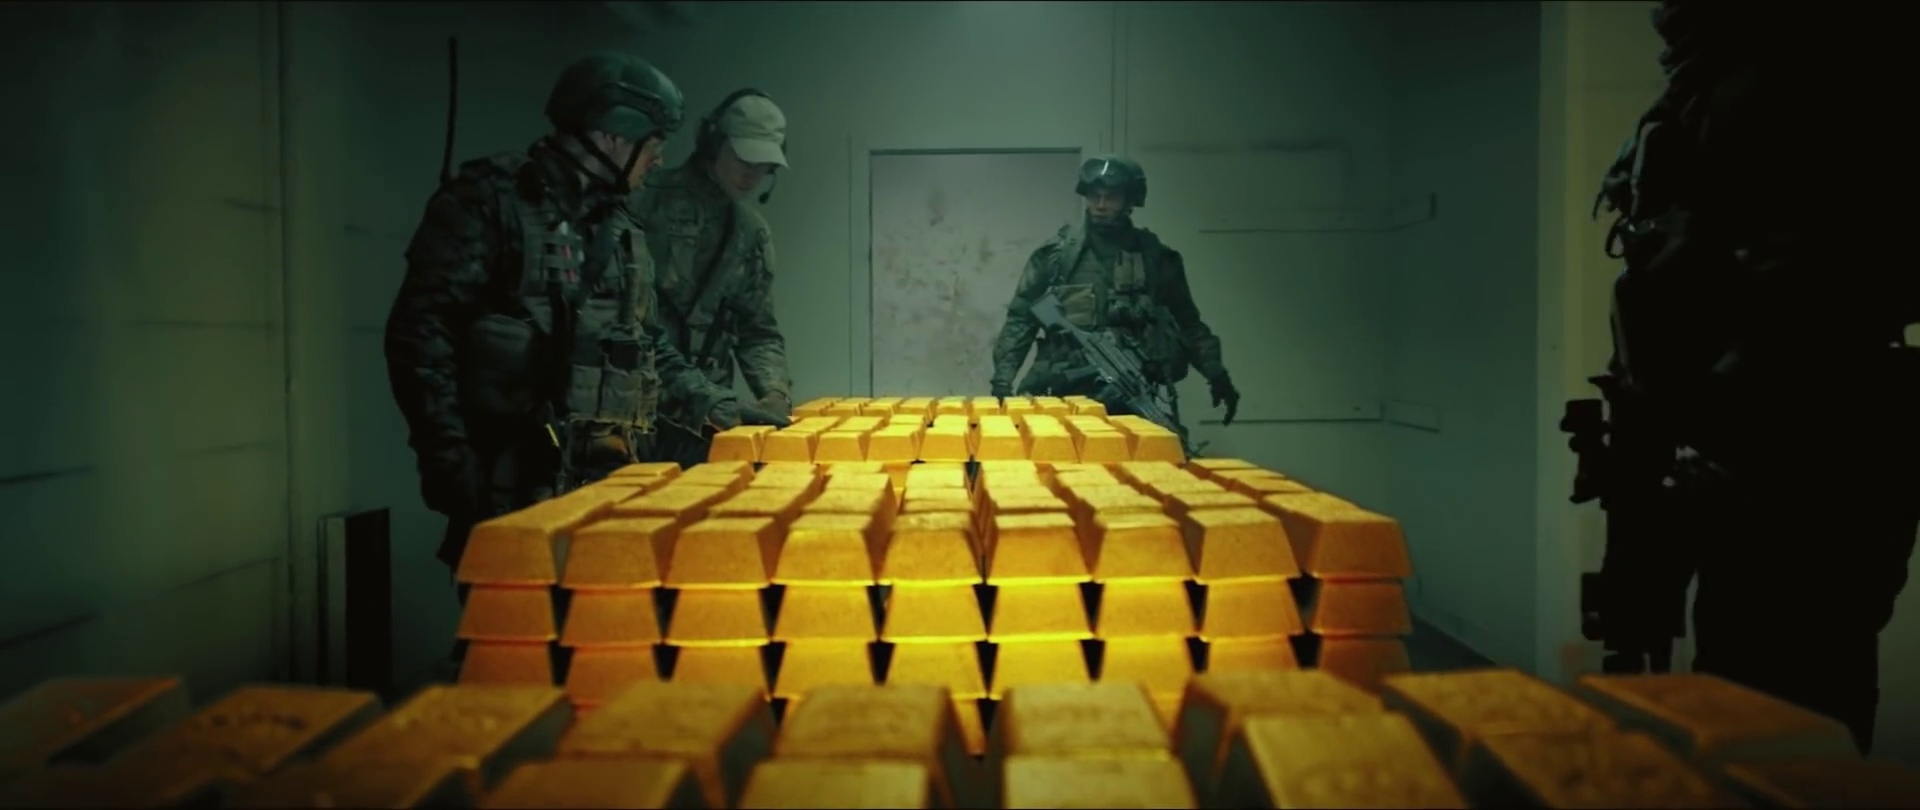gun: (1565, 131, 1707, 677), (1021, 286, 1177, 439)
p_w_gun: (1553, 0, 1920, 750), (989, 150, 1245, 458)
p_wo_gun_not_carrying_normal_pose: (391, 49, 693, 589), (644, 86, 808, 461)
